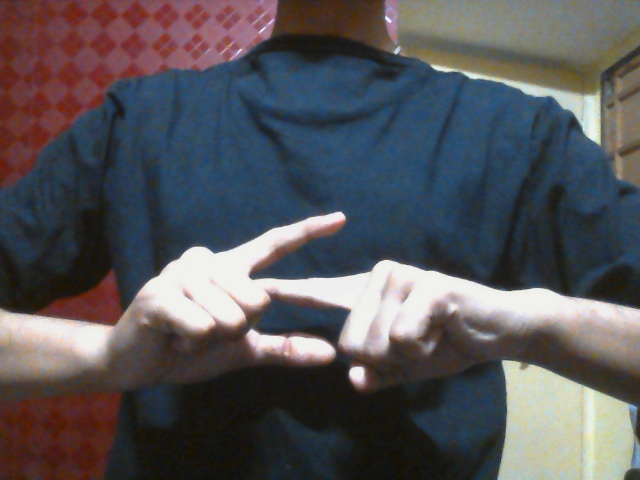E: (128, 212, 494, 396)
